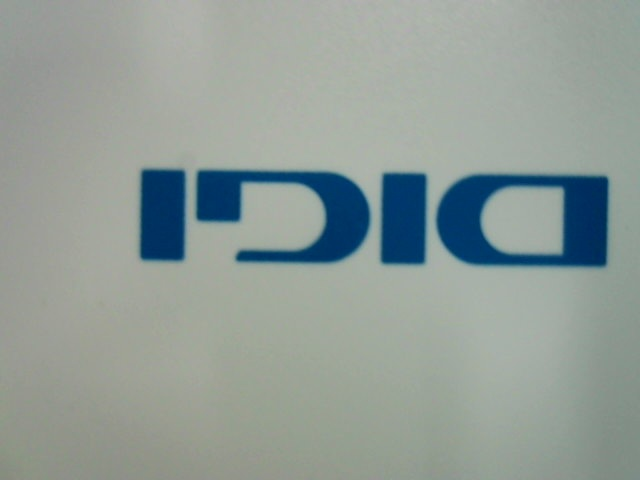BL_DIGI: (130, 151, 621, 275)
